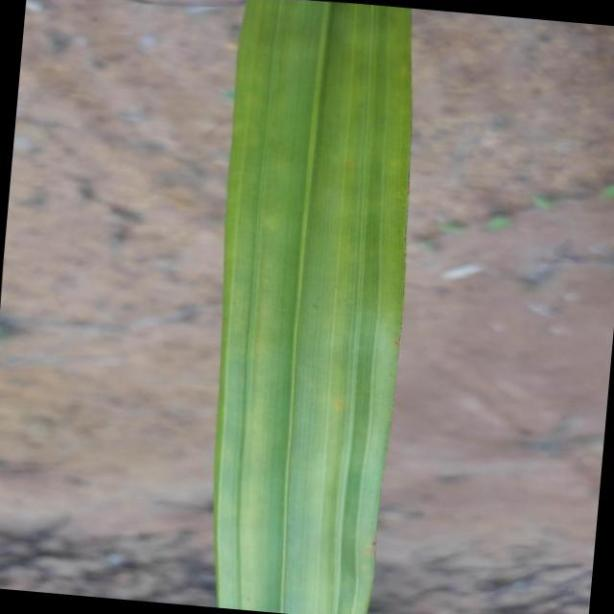nitrogen: (208, 0, 414, 614)
